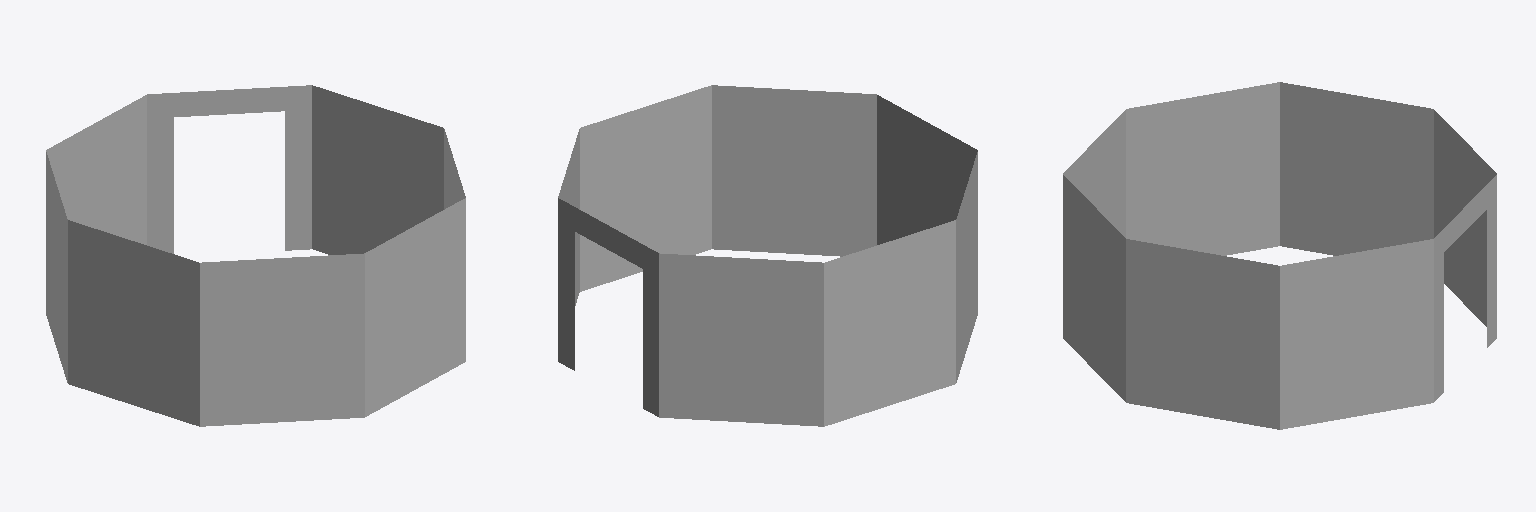
The model's file is ring_With_Doorway.obj.
3 renders of one model, left to right at view 1: azimuth 30°, elevation 25°; view 2: azimuth 150°, elevation 25°; view 3: azimuth 270°, elevation 25°, orthographic.
Visible parts, largest first — view 1: Base_Ring; view 2: Base_Ring; view 3: Base_Ring.
Boxes of the visible parts, <box> form: Base_Ring: <box>46,85,465,426</box>; Base_Ring: <box>558,85,977,426</box>; Base_Ring: <box>1063,82,1496,429</box>.
Size of the model in its own units: 12 by 5 by 12.